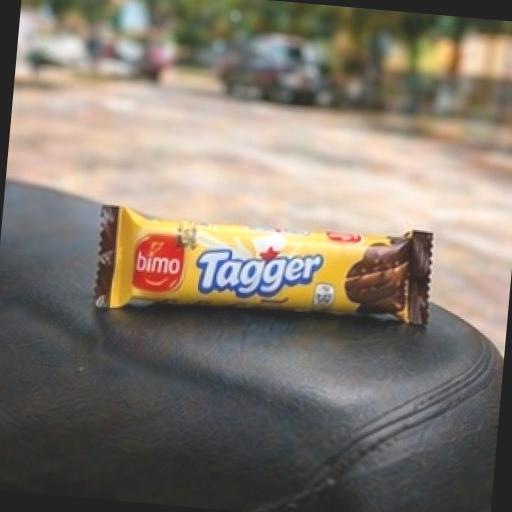tagger: (60, 163, 484, 383)
